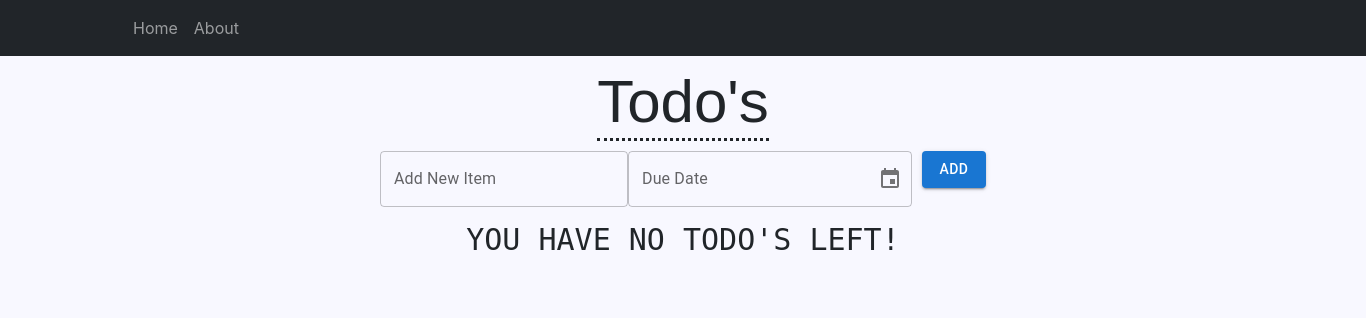
Test case: test that App component can be deleted thru checkbox
Type "New Item" into the field labelled "Add New Item" at (504, 179), box x1=380 y1=151 x2=628 y2=207
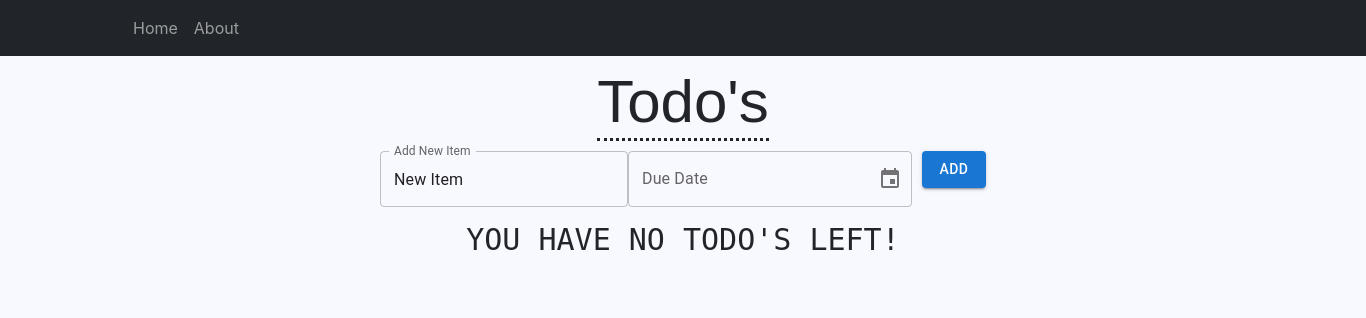
Type "06/29/2022" into the field labelled "Due Date" at (745, 179), box x1=628 y1=151 x2=862 y2=207
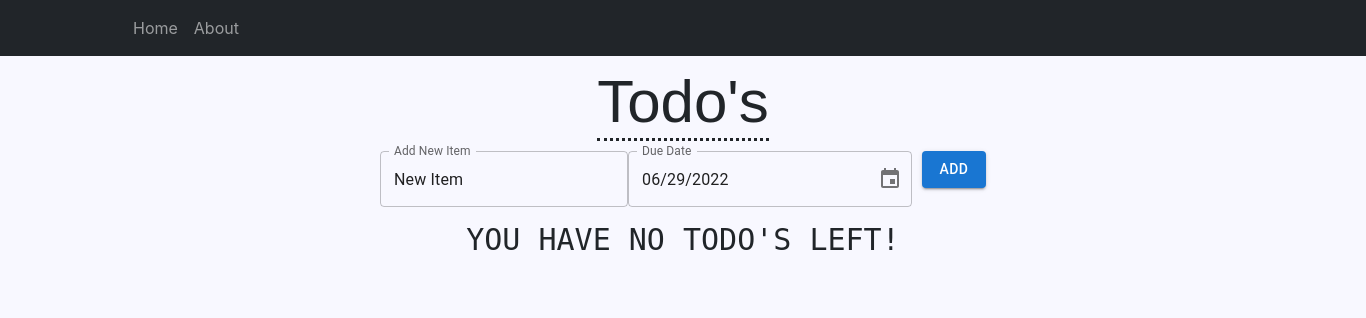
Click the button "Add" at (954, 169), box x1=922 y1=151 x2=986 y2=188
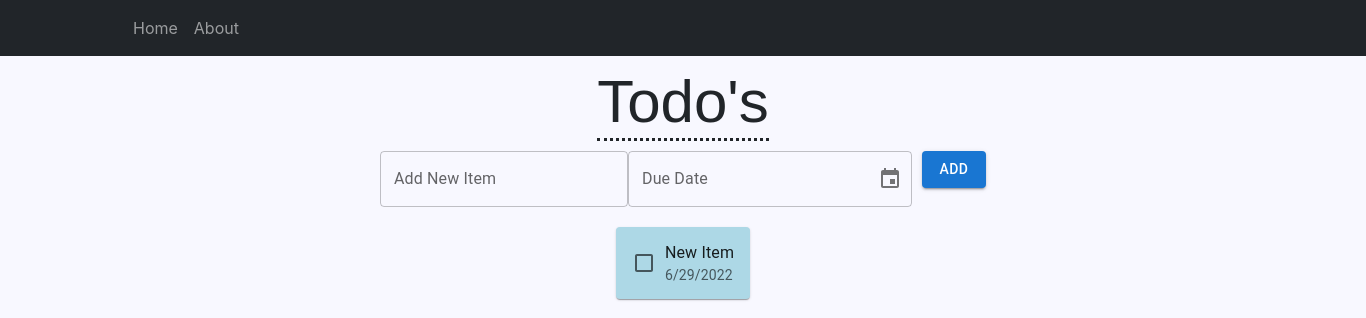
Click the checkbox at (644, 263), box x1=632 y1=251 x2=656 y2=275
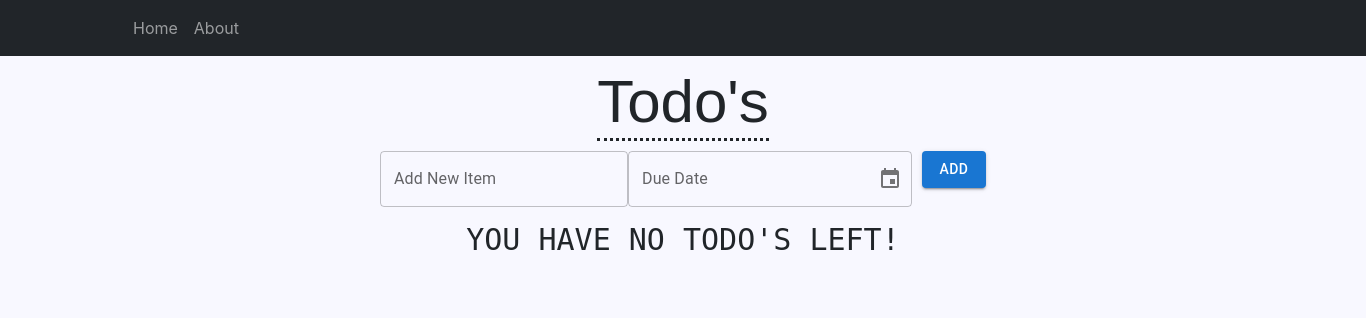
Now the text "YOU HAVE NO TODO'S LEFT!" is shown, box x1=466 y1=217 x2=900 y2=262
